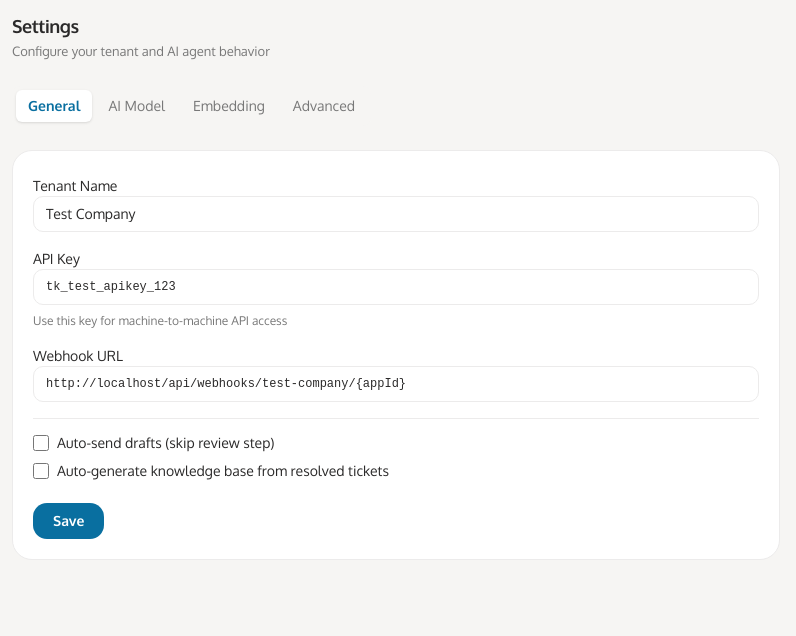
Scenario: Settings – General tab › can save tenant name
Expected: the field labelled "Tenant Name" holds "Test Company", [33,196,759,232]
Click the button "Save": (69, 520) [33,502,104,538]
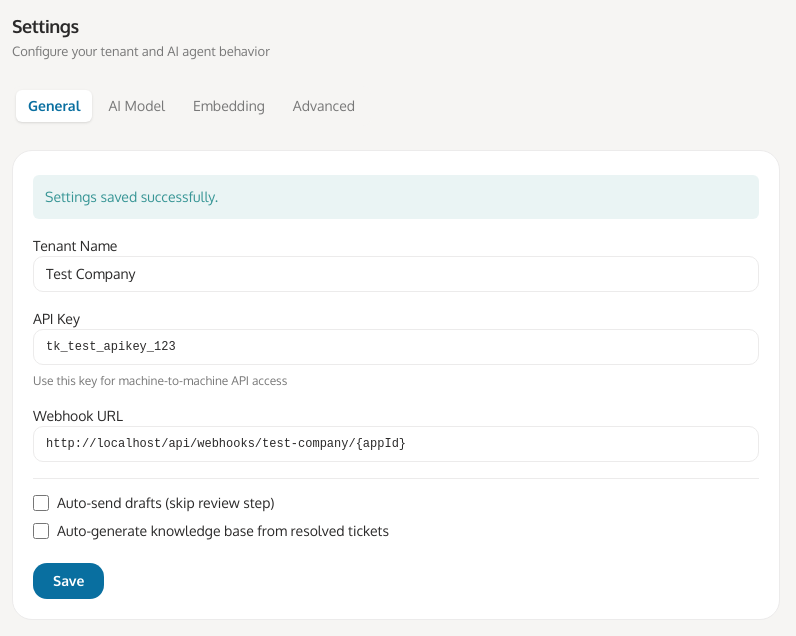
Now the text "Settings saved successfully." is shown, box [33,174,759,218]
